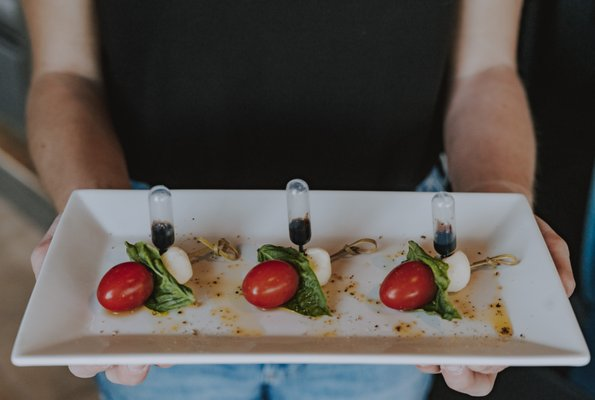pizza: (17, 1, 553, 247), (424, 1, 594, 336)
